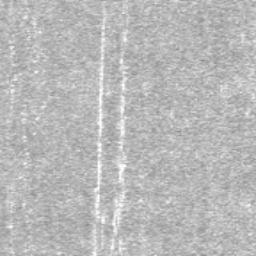Bright scratch: (110, 16, 128, 256), (92, 0, 106, 256)
